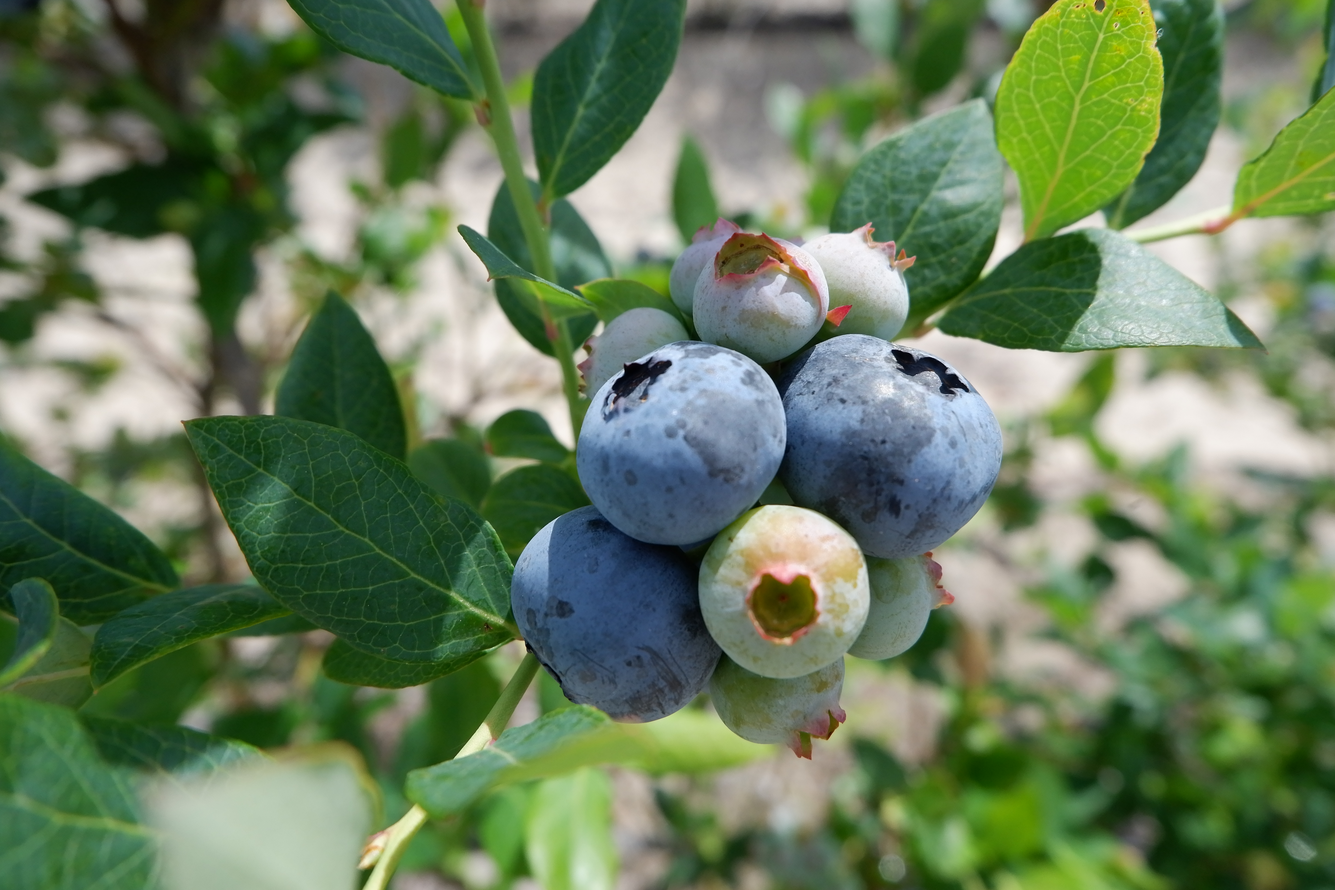Immature: (701, 508, 869, 676), (696, 233, 826, 359), (710, 656, 844, 754), (813, 225, 911, 339), (579, 309, 691, 397), (852, 556, 944, 658), (670, 221, 741, 327)
Mature: (784, 336, 997, 553), (516, 512, 718, 719), (581, 343, 785, 543)
